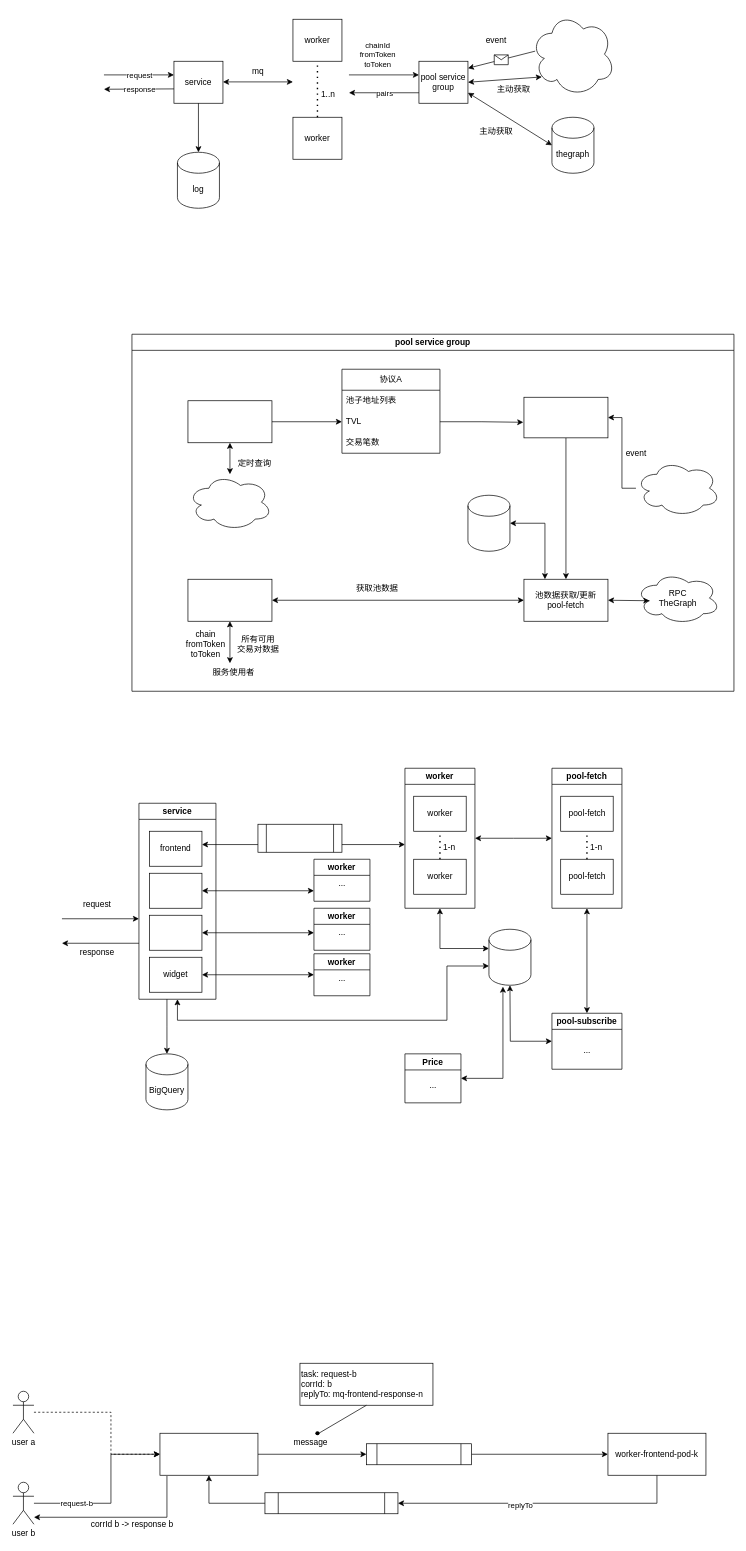
Image size: 746x1551. Some labels were removed from this diagram. Here are the shapes that lost their labels. From the top down, the centre of each, then its label:
At (572,54): "rpc".
At (229,421): "维护池子列表 pool-list".
At (565,417): "池事件订阅 pool-subscribe".
At (229,502): "RPC TheGraph 统计网站".
At (677,488): "RPC WebSocket".
At (488,523): "缓存".
At (229,600): "池子选择策略 pool-select".
At (299,838): "RabbitMQ".
At (175,890): "backend".
At (175,932): "visitor".
At (509,957): "Redis".
At (208,1454): "service-frontend-pod-n".
At (418,1454): "mq-frontend-request".
At (331,1503): "mq-frontend-response-n".
